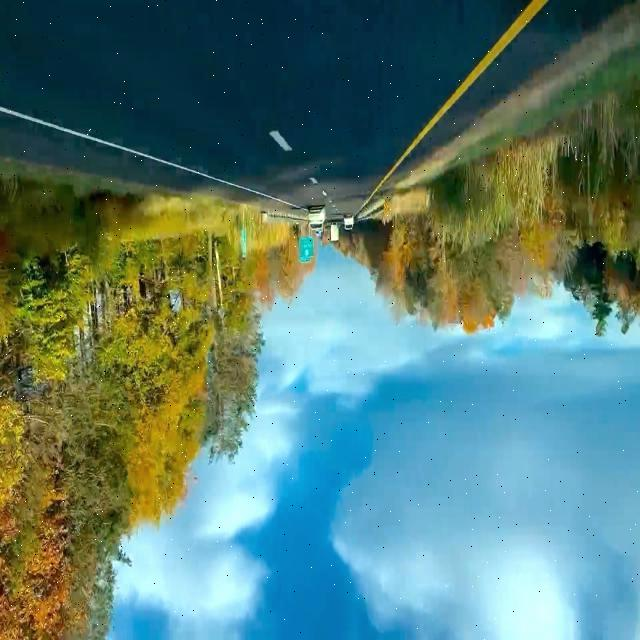lane: (361, 1, 549, 209), (0, 104, 301, 208), (269, 130, 292, 151)
road: (1, 1, 528, 218), (395, 1, 630, 179), (1, 113, 260, 200)
